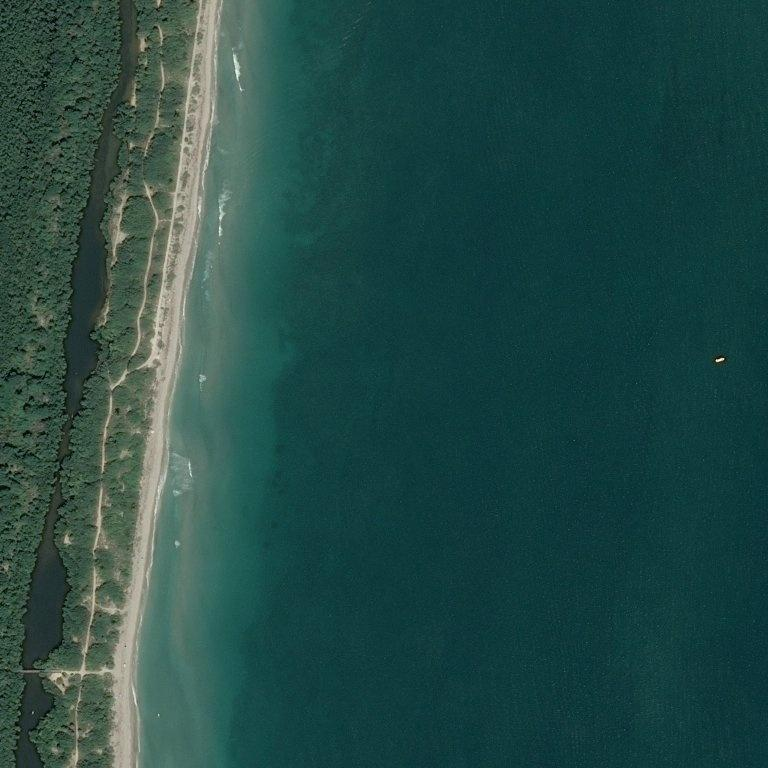ship: (713, 357, 730, 363), (723, 357, 725, 359), (693, 362, 694, 363), (715, 360, 716, 360)
